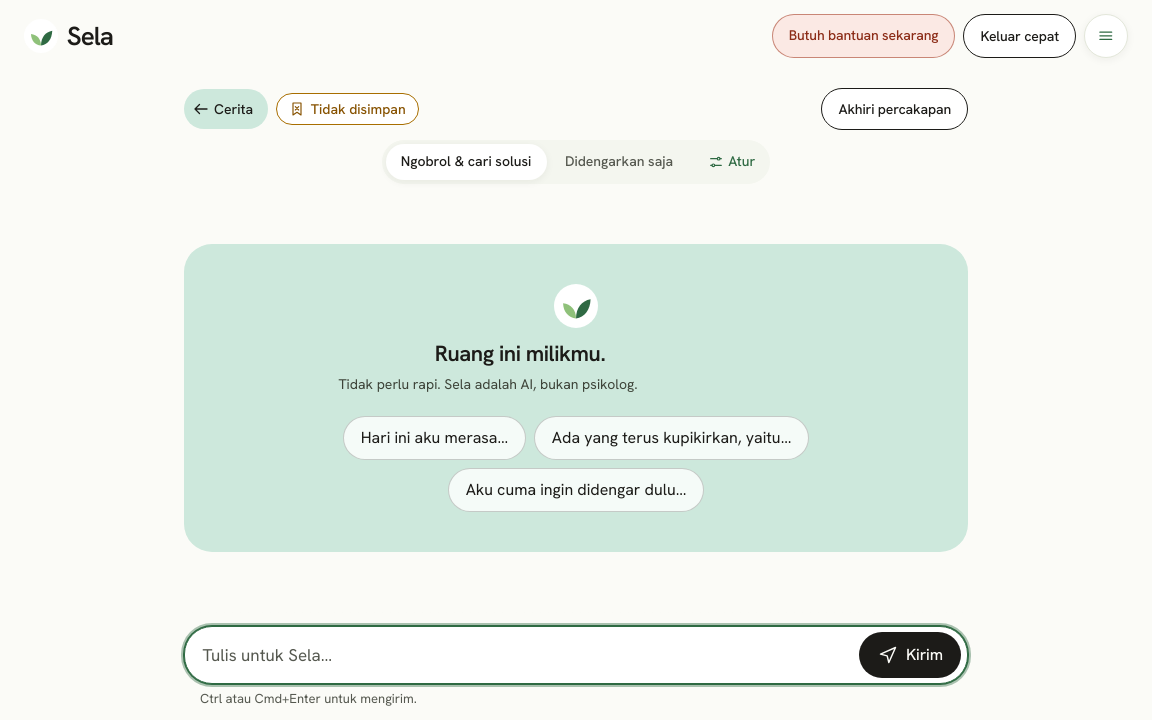
it: home, notes and conversations › renders validated stream chunks once and keeps the done room
Type "Aku merasa berat hari ini." into the text box labelled "Tulis untuk Sela".
click(522, 655); type("Aku merasa berat hari ini.")  # box top-left (191, 633), bottom-right (853, 678)
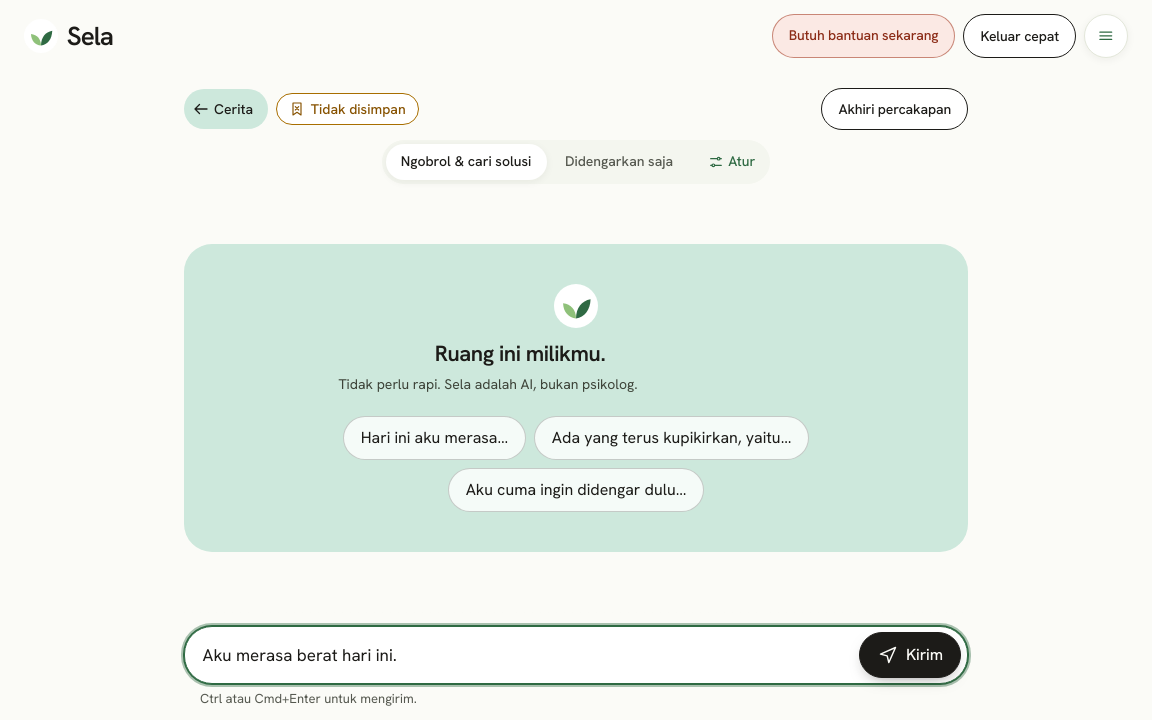
Click the button "Kirim".
click(910, 655)  # box top-left (859, 632), bottom-right (961, 678)
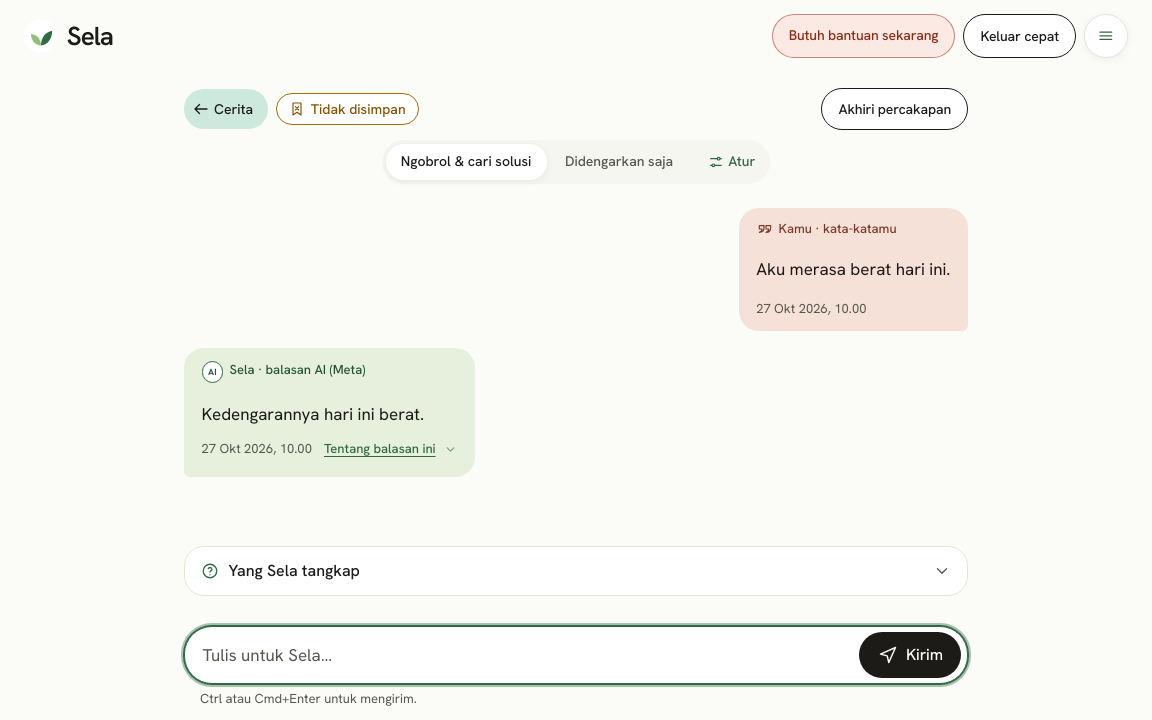
Now the text "Kedengarannya hari ini berat." is shown once, box top-left (202, 401), bottom-right (457, 428)
